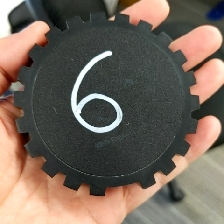gear: (12, 10, 202, 198)
missing: (89, 173, 156, 198)
